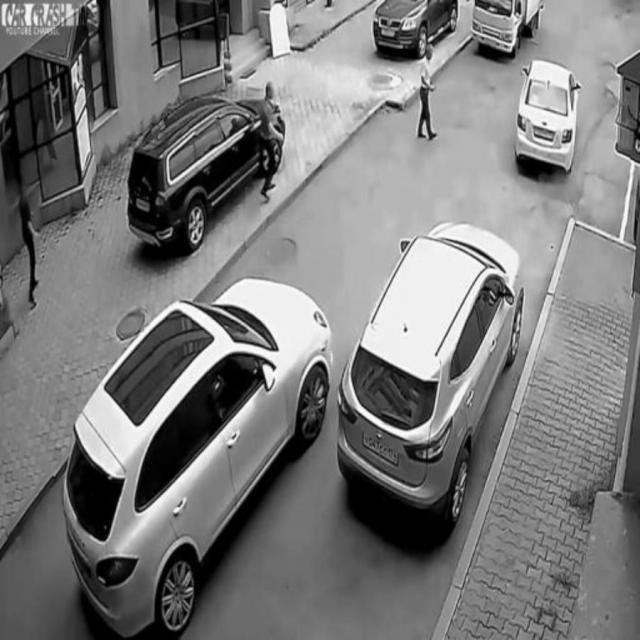person: (16, 181, 42, 311), (257, 82, 283, 203), (417, 40, 437, 141)
vehicle: (64, 282, 332, 639), (338, 211, 525, 522), (127, 94, 284, 250), (516, 59, 580, 180), (369, 0, 461, 60), (474, 0, 544, 60)
